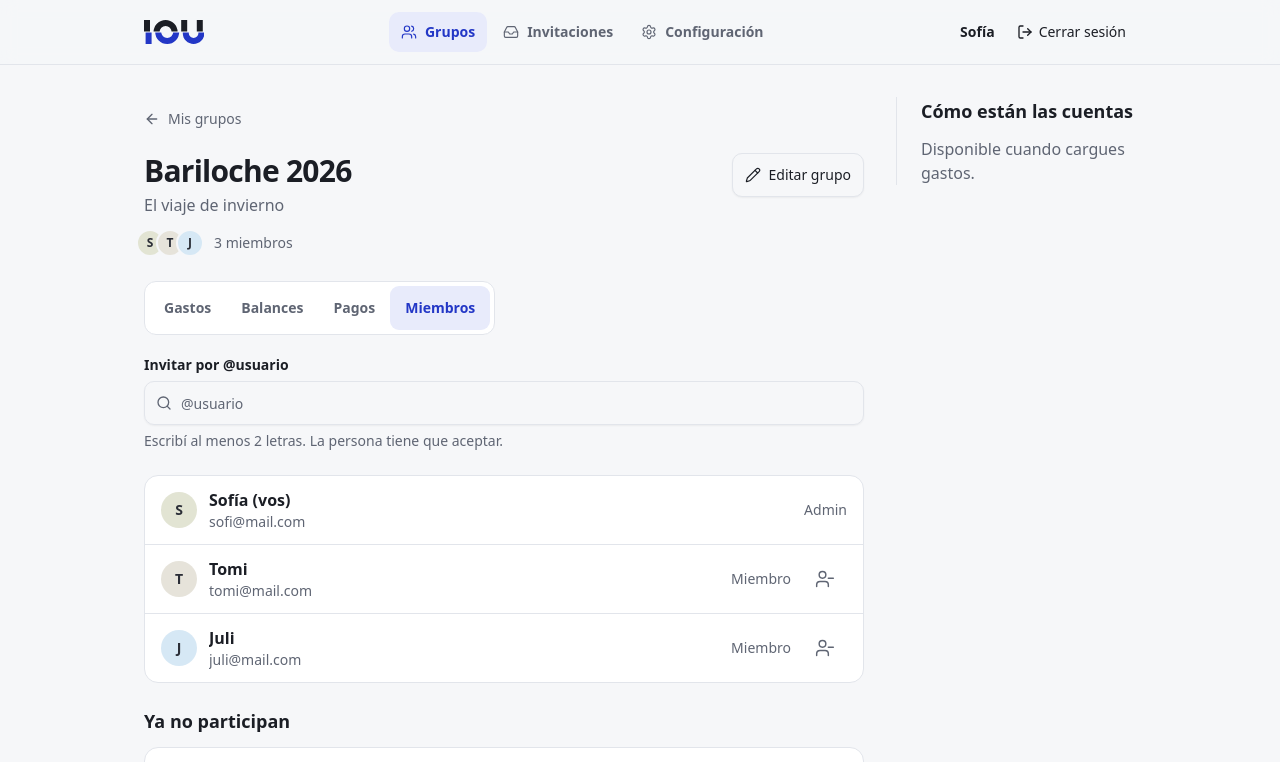
Quitar del grupo (admin) › 409 SALDO_PENDIENTE → el mensaje de la API queda en el diálogo (CA-11.2)
Click the button named "Quitar a Tomi": (825, 579) x1=803 y1=557 x2=847 y2=601
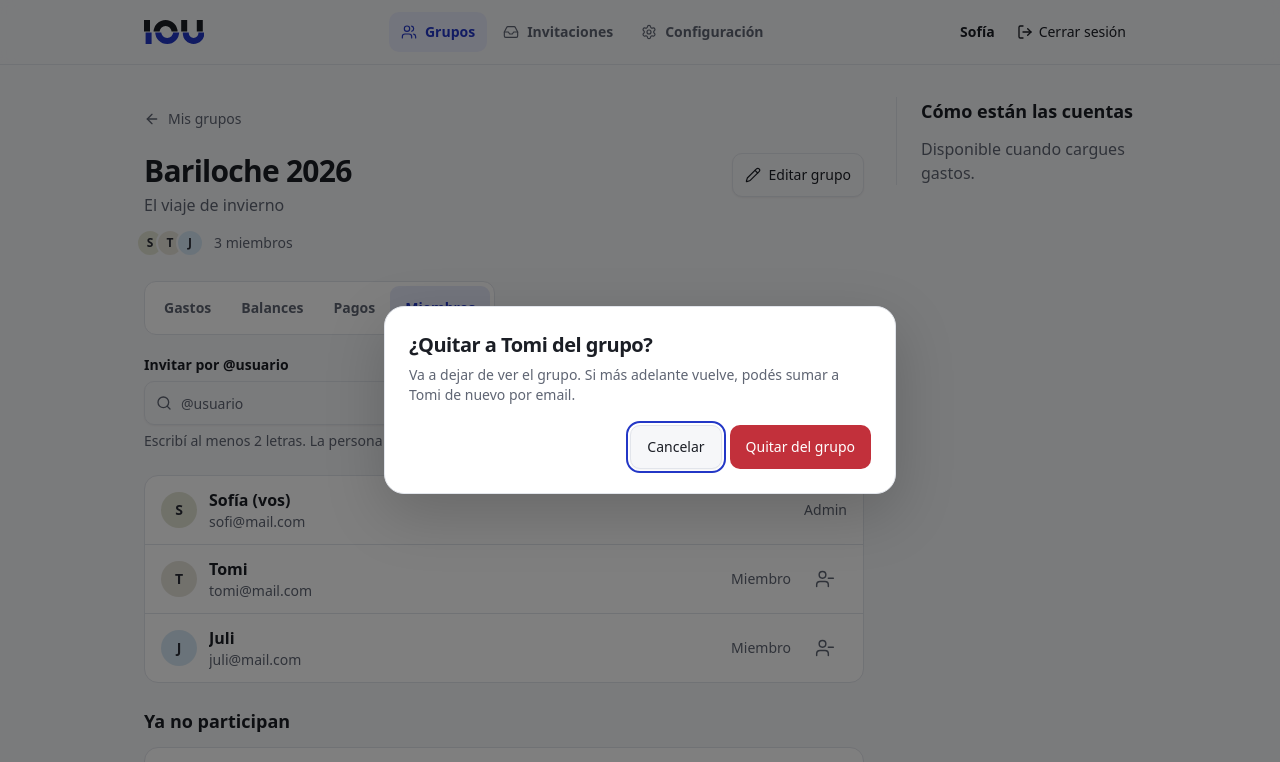
Click the button "Quitar del grupo": (800, 447) x1=730 y1=425 x2=871 y2=469
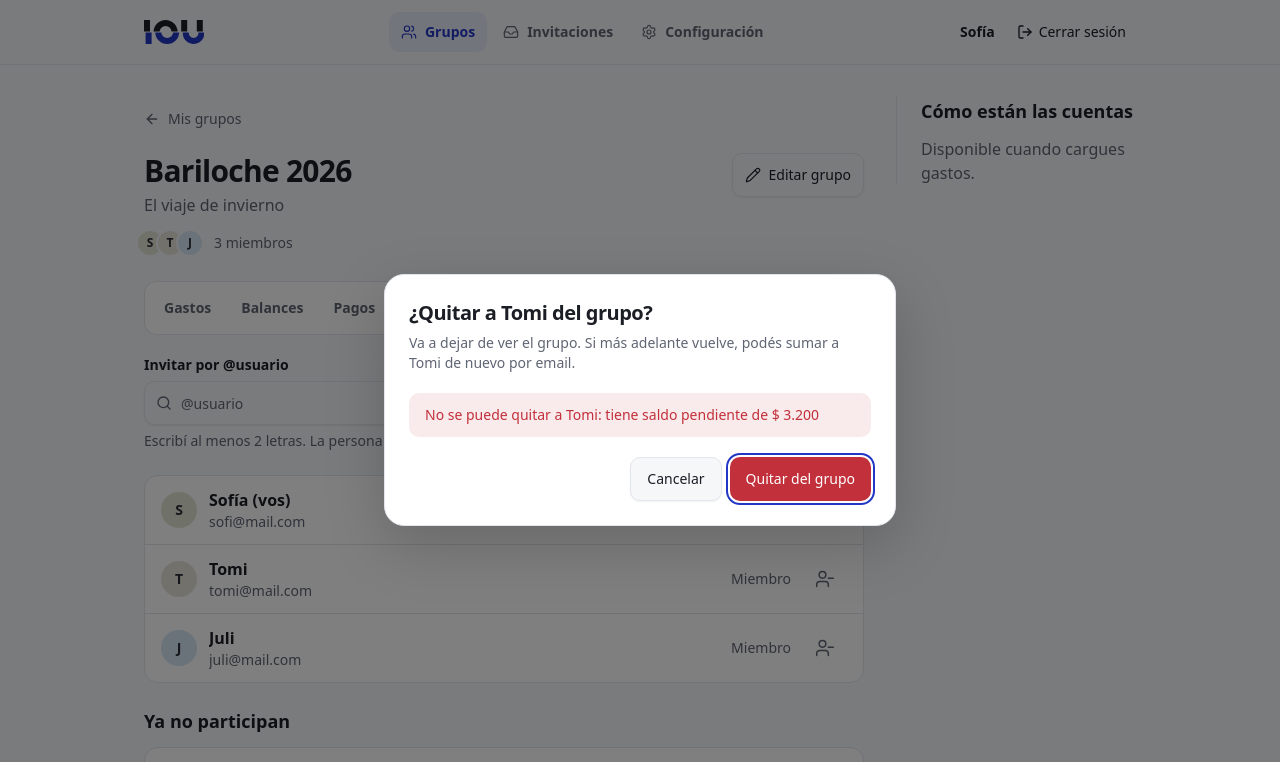
Expected: the button "Quitar del grupo" is enabled, x1=730 y1=457 x2=871 y2=501
Expected: the message reads "No se puede quitar a Tomi: tiene saldo pendiente de $ 3.200", x1=425 y1=405 x2=819 y2=424
